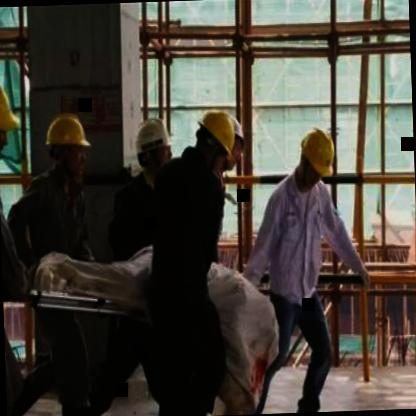helmet: (40, 107, 96, 184), (292, 119, 338, 189), (193, 106, 234, 172), (131, 114, 173, 178), (0, 70, 24, 158), (229, 116, 246, 170)
